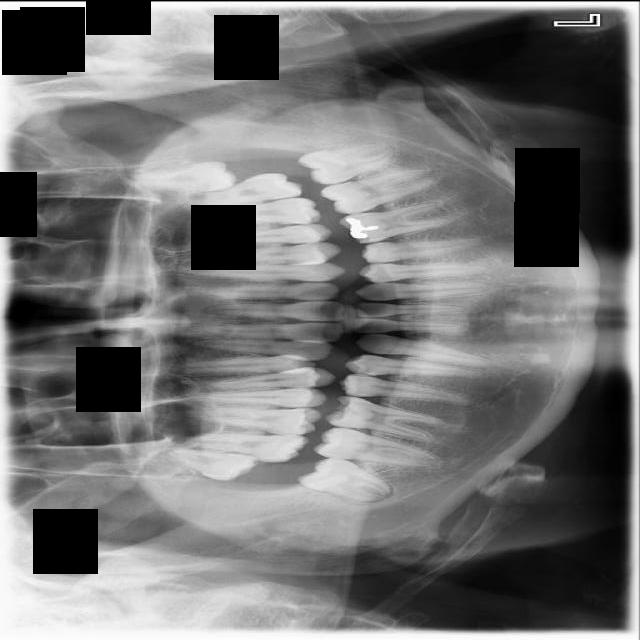3M ESPE Implant: (157, 434, 261, 488)
52: (338, 204, 386, 252)
73: (599, 18, 612, 26)
BioHorizons Implant: (177, 167, 305, 212)
BioLife Implant: (118, 159, 238, 196)
Biomet 3i Implant: (296, 138, 399, 189)
Blue Sky Bio Implant: (319, 162, 440, 219)
Caries: (172, 429, 310, 464)
Implant: (312, 423, 439, 469)
Keystone Dental Implant: (296, 448, 396, 507)
